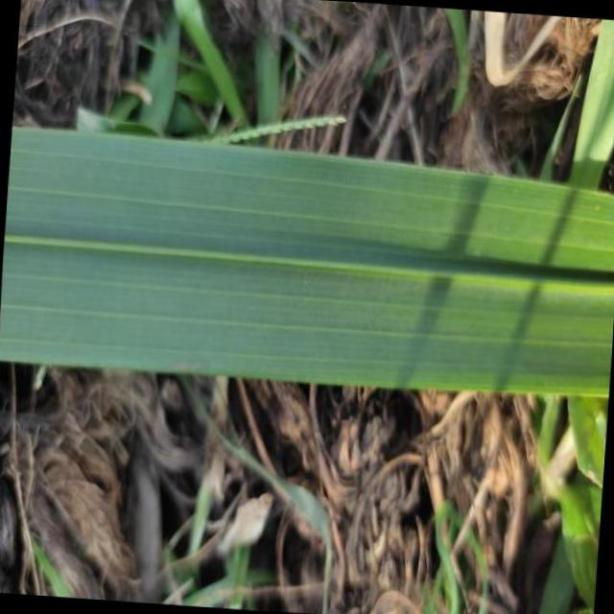Healthy: (1, 125, 614, 395)
